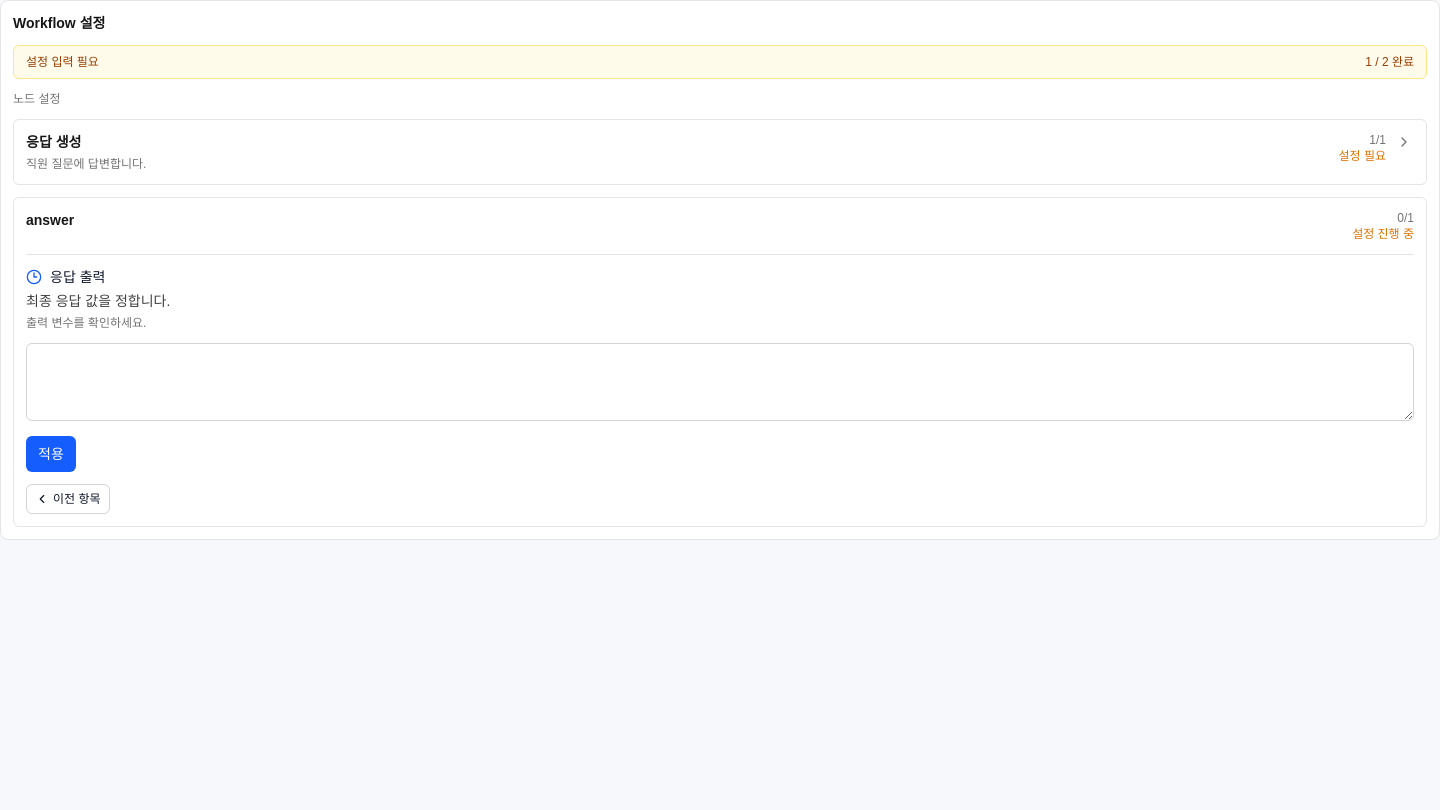
Test: Agent Builder parameter cards › 이전 node card를 펼쳐도 현재 active node card를 열린 상태로 유지한다
This screenshot has width=1440, height=810.
Click the button named "응답 생성 설정 보기" at [1404, 142], box [1394,132,1414,152]
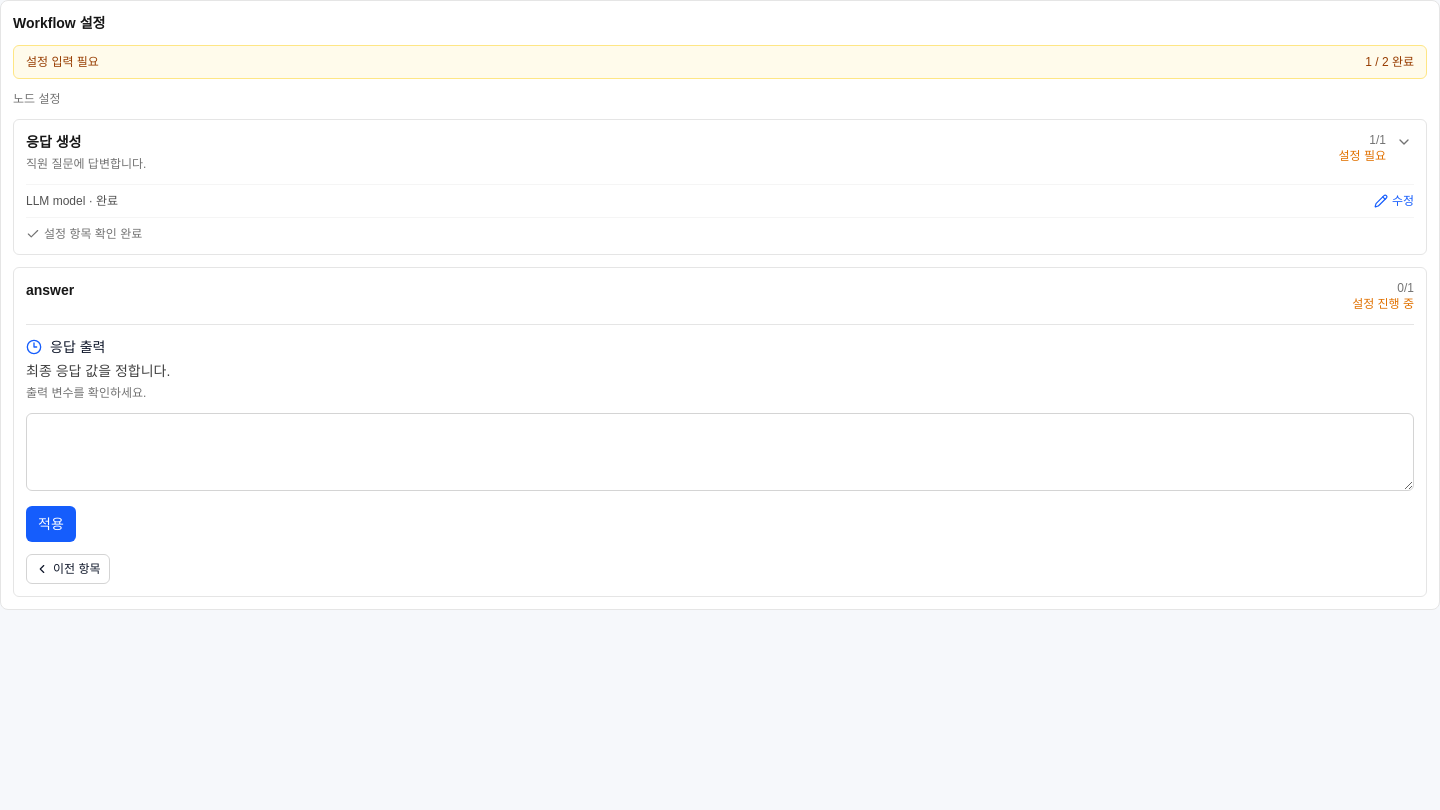
Now the element with test id "agent-builder-parameter-card" is expanded, box [13,119,1427,255]
